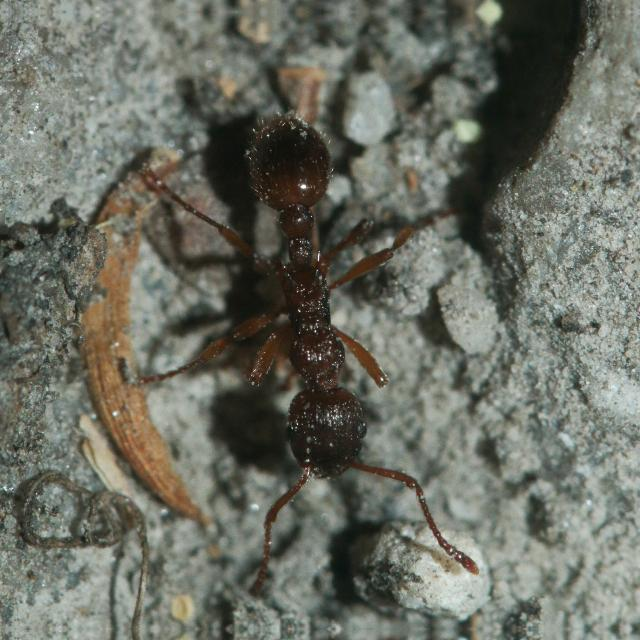Myrmica: (172, 49, 444, 544)
